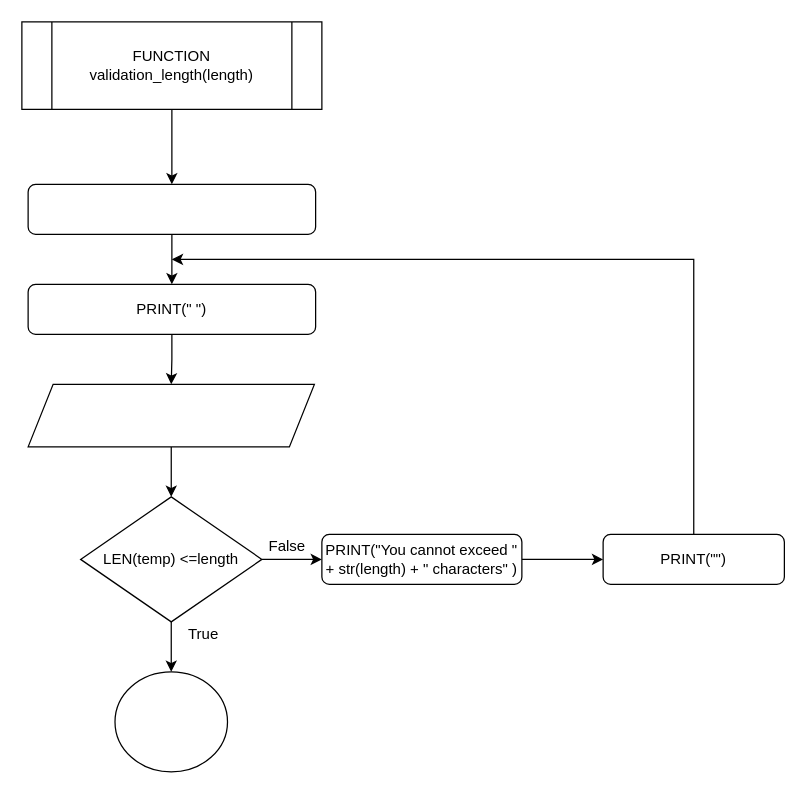
Some shapes in this 806 by 794 pixel diagram are drawn without their labels. The centre of each missing label's shape, as x and y in pixels:
length = int(length): pixel 171 208
READ temp: pixel 170 415
RETURN temp: pixel 171 721
